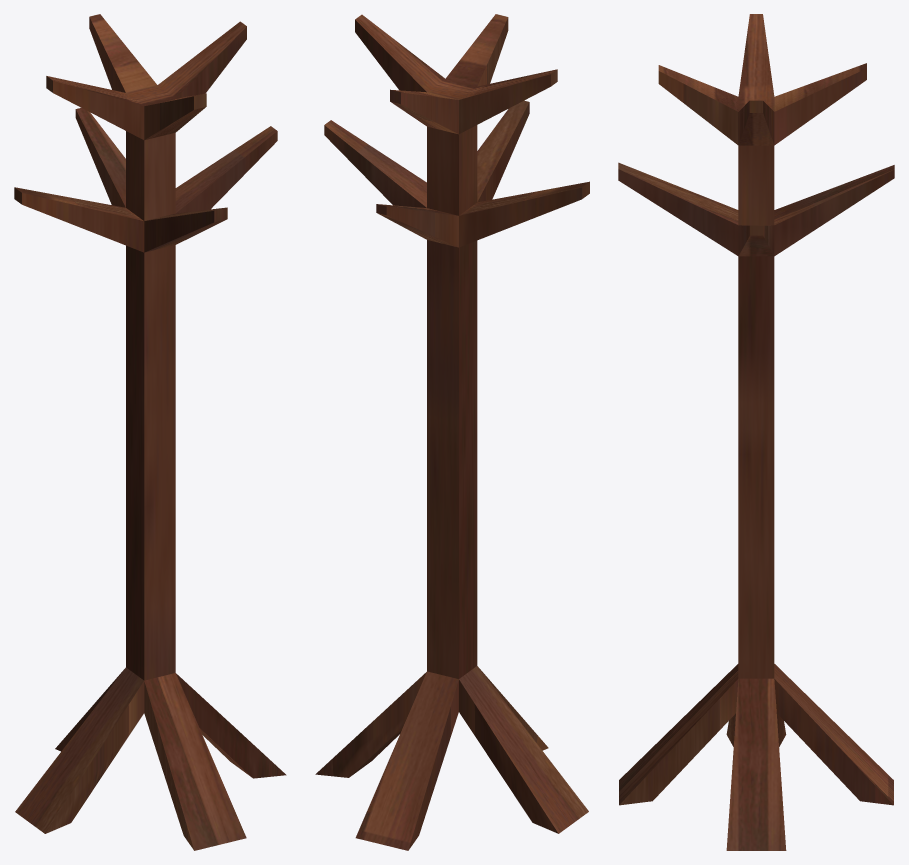
The model's file is coatRackFBX.fbx.
3 renders of one model, left to right at view 1: azimuth 30°, elevation 25°; view 2: azimuth 150°, elevation 25°; view 3: azimuth 270°, elevation 25°, orthographic. The views are drawn at different scales.
Visible parts, largest first — view 1: pCube1; view 2: pCube1; view 3: pCube1.
Boxes of the visible parts, bbox=[...] form: pCube1: bbox=[14, 14, 286, 850]; pCube1: bbox=[315, 14, 589, 850]; pCube1: bbox=[618, 14, 894, 850].
Bounding box in the file's own units: 4.9 × 13.66 × 4.65.
Materials: 1 (1 with a texture image).
